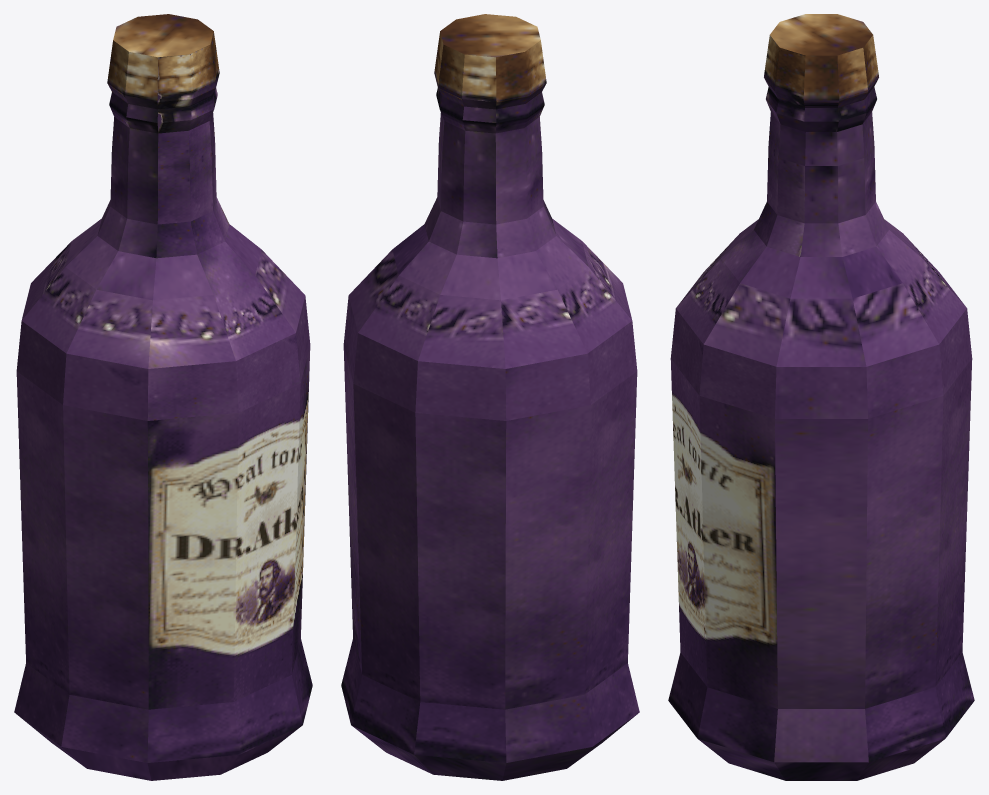
File: dratker_bottle.fbx
3 renders of one model, left to right at view 1: azimuth 30°, elevation 25°; view 2: azimuth 150°, elevation 25°; view 3: azimuth 270°, elevation 25°, orthographic.
Visible parts, largest first — view 1: Cylinder; view 2: Cylinder; view 3: Cylinder.
Part boxes in pixels (box(x1,y1,x2,y2)): Cylinder: box(14, 14, 312, 780); Cylinder: box(341, 14, 639, 780); Cylinder: box(668, 14, 974, 780).
Size of the model in its own units: 188 by 498 by 198.
1 material, 1 textured.
